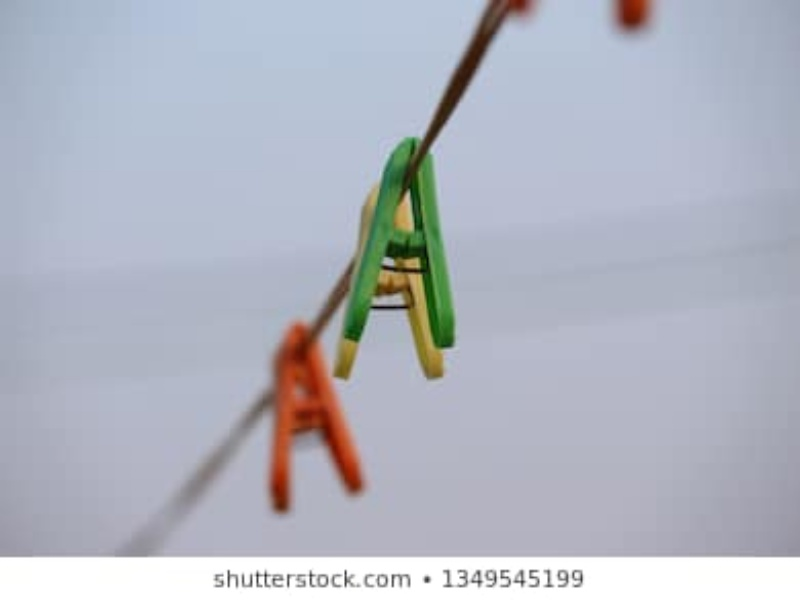plastic-peg: (345, 133, 456, 345), (334, 182, 447, 382), (270, 322, 372, 520)
